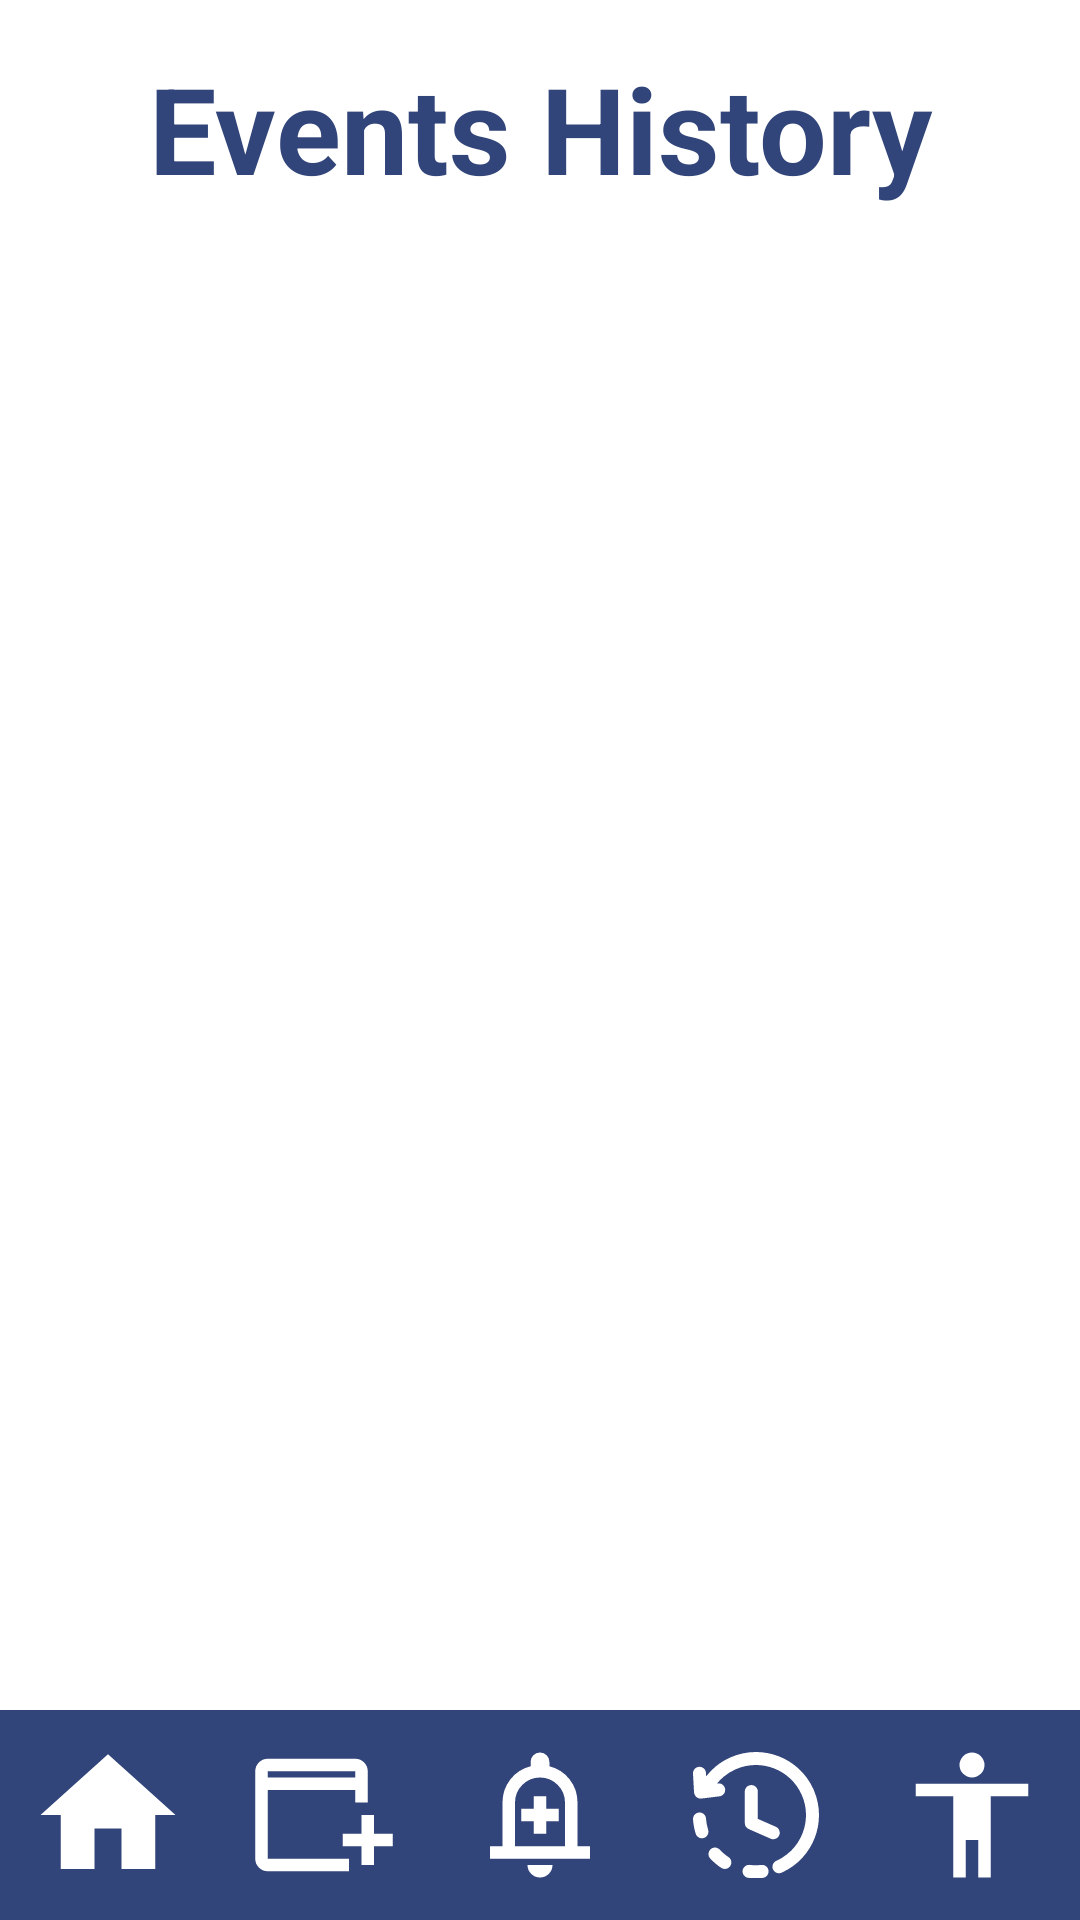

Where icons sit on this 1080x1920 app screen, as (x1, y1, x2, y2):
event: (255, 1758, 393, 1872)
history: (693, 1752, 819, 1878)
home: (41, 1754, 175, 1869)
notification: (490, 1752, 590, 1878)
profile: (915, 1752, 1029, 1878)
